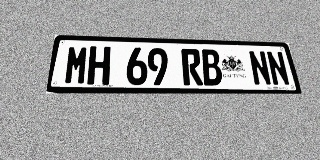6: (126, 47, 147, 85)
9: (148, 48, 169, 85)
B: (200, 49, 223, 85)
H: (87, 46, 111, 85)
M: (63, 46, 89, 85)
N: (265, 51, 291, 86), (248, 50, 272, 86)
R: (181, 49, 203, 85)
